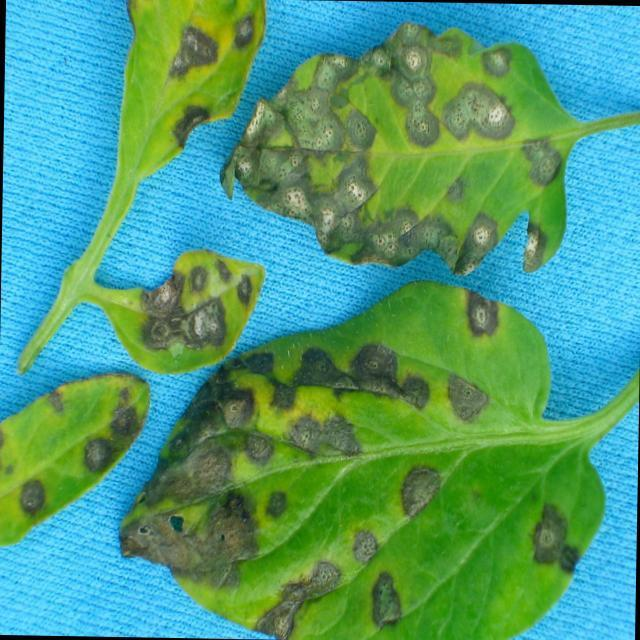Septoria: (126, 301, 586, 640), (245, 23, 564, 268), (17, 382, 134, 518), (126, 252, 255, 358), (162, 9, 253, 142)
